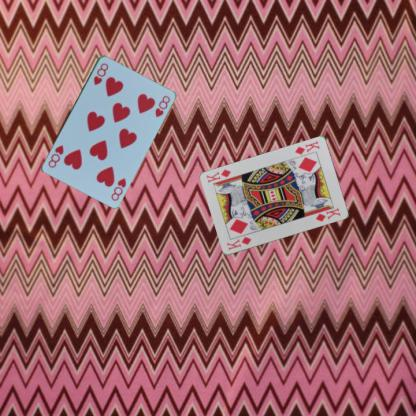8h: (108, 175, 127, 202), (91, 60, 109, 86)
Kd: (292, 138, 321, 156), (224, 234, 253, 251)
